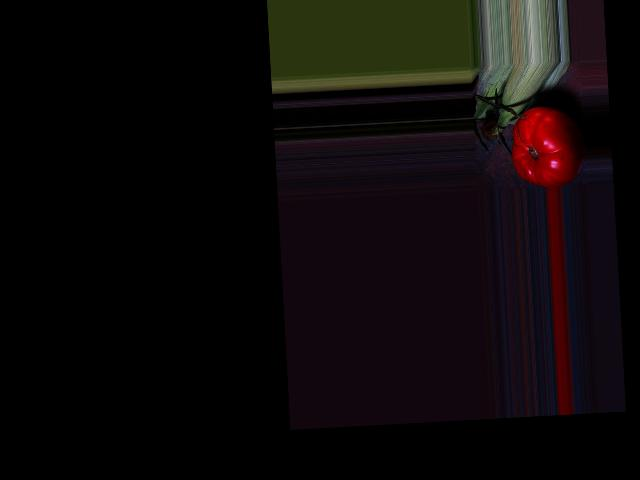tomato: (509, 104, 587, 188)
